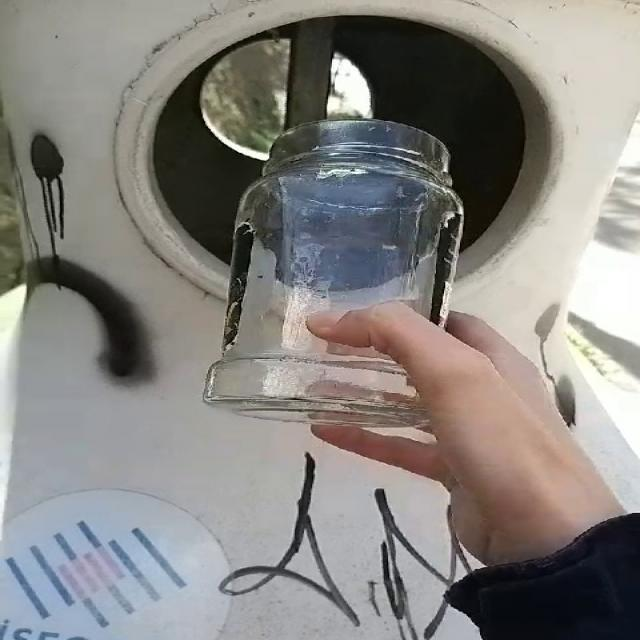glass: (205, 121, 464, 426)
